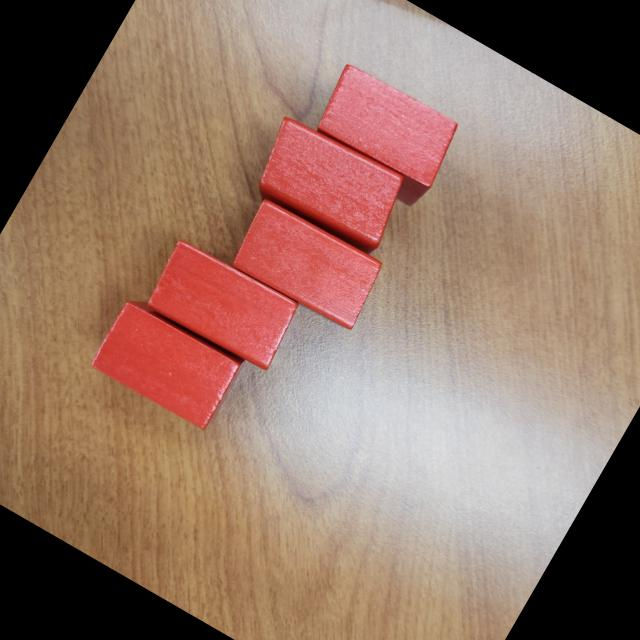red: (245, 110, 415, 260), (301, 61, 467, 212), (142, 235, 306, 375), (228, 193, 390, 334), (88, 294, 246, 434)
